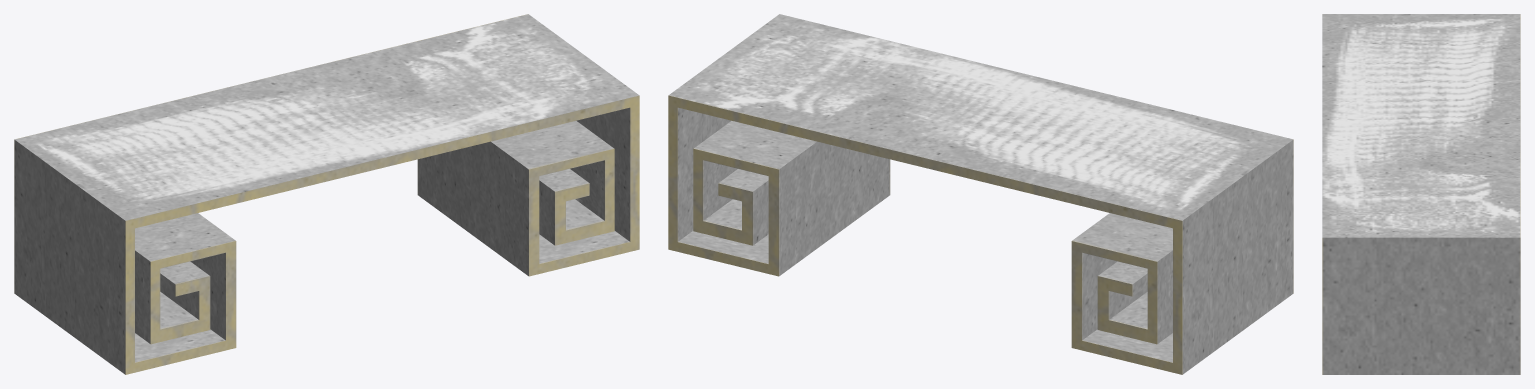
File: Bench_02.optimized.glb
3 renders of one model, left to right at view 1: azimuth 30°, elevation 25°; view 2: azimuth 150°, elevation 25°; view 3: azimuth 270°, elevation 25°, orthographic. The views are drawn at different scales.
Visible parts, largest first — view 1: Bench_02; view 2: Bench_02; view 3: Bench_02.
Part boxes in pixels (<box>): Bench_02: <box>14,14,639,374</box>; Bench_02: <box>668,14,1293,374</box>; Bench_02: <box>1322,14,1520,374</box>.
Size of the model in its own units: 1.92 by 0.5499 by 0.7201.
1 material, 1 textured.
